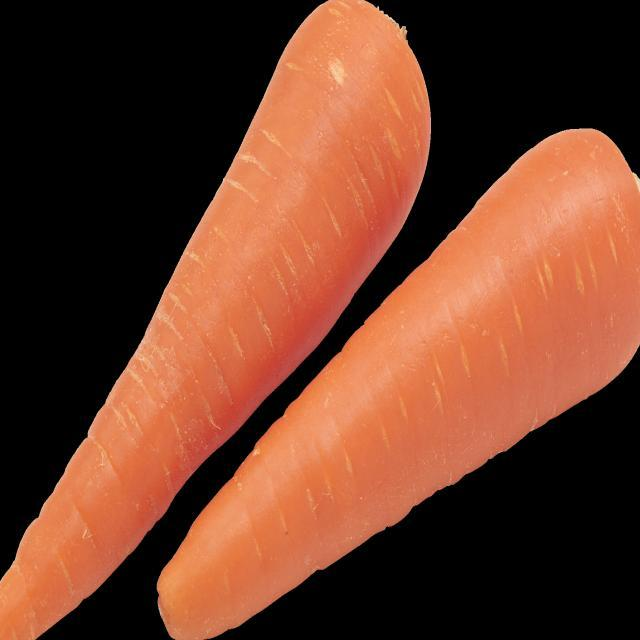carrot: (0, 0, 432, 638), (152, 126, 639, 639)
